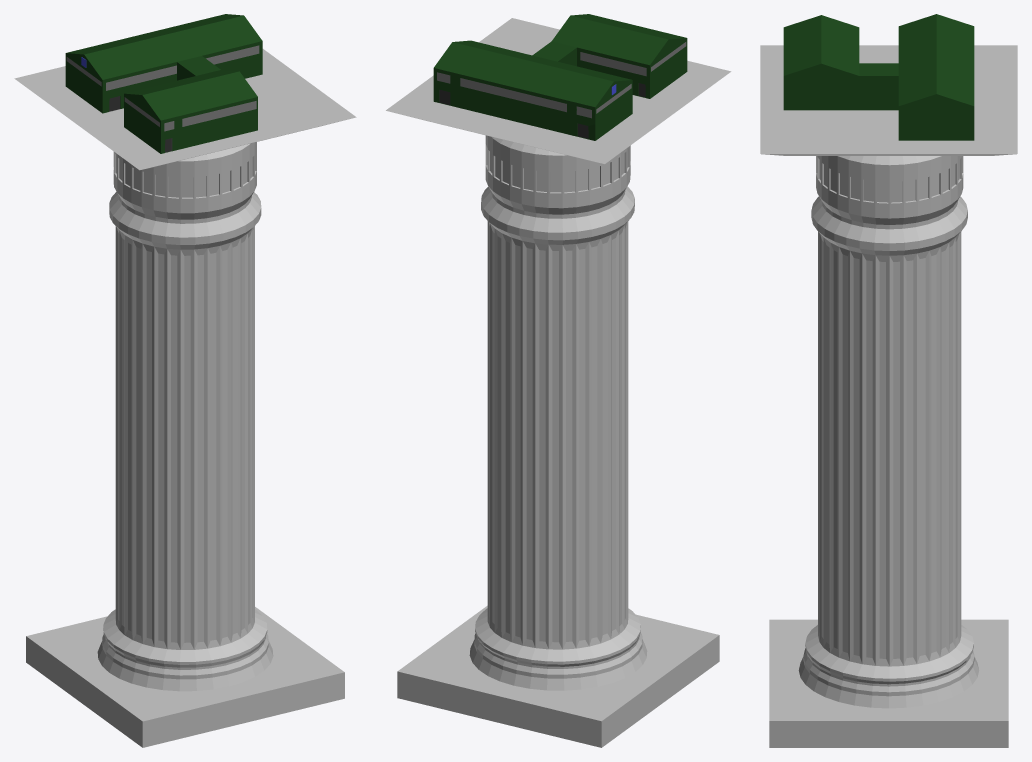
File: pillarAlcoa.glb
3 renders of one model, left to right at view 1: azimuth 30°, elevation 25°; view 2: azimuth 150°, elevation 25°; view 3: azimuth 270°, elevation 25°, orthographic. The views are drawn at different scales.
Parts seen in each view (by area): view 1: Circle, Cube; view 2: Circle, Cube; view 3: Circle, Cube.
Part boxes in pixels (<box>): Circle: <box>14,49,356,747</box>; Cube: <box>65,14,262,153</box>; Circle: <box>386,18,731,747</box>; Cube: <box>433,14,687,140</box>; Circle: <box>760,45,1017,747</box>; Cube: <box>783,14,974,140</box>.
Bounding box in the file's own units: 2.84 × 7.84 × 2.84.
